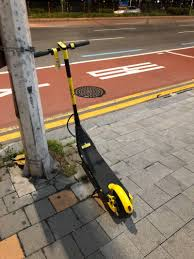kick_board: (34, 40, 134, 217)
kick_handler: (33, 41, 89, 56)
kick_neck: (64, 56, 82, 125)
kick_wheel: (108, 186, 133, 217)
